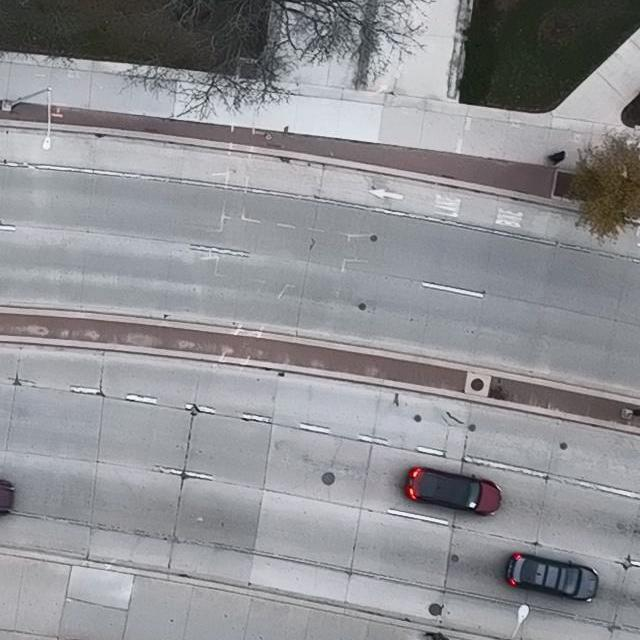car: (505, 551, 599, 603), (406, 466, 501, 516)
